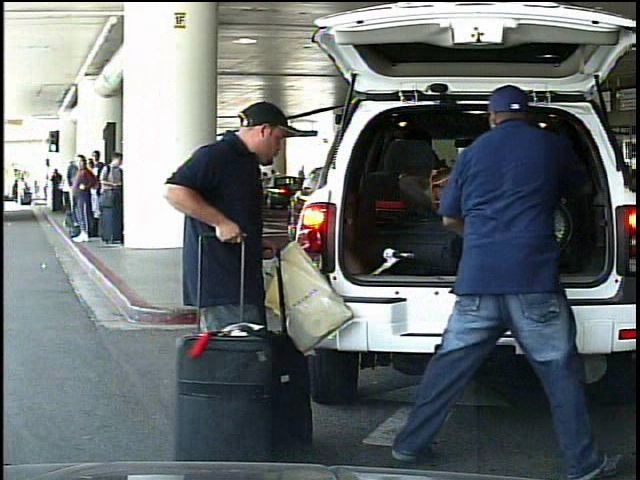person: (389, 77, 608, 479), (156, 90, 300, 456), (294, 163, 309, 200), (17, 174, 28, 204)
